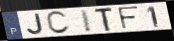1: (146, 5, 159, 27)
C: (45, 10, 71, 35)
F: (116, 5, 140, 30)
I: (79, 9, 93, 34)
J: (25, 13, 45, 36)
T: (94, 6, 114, 32)
